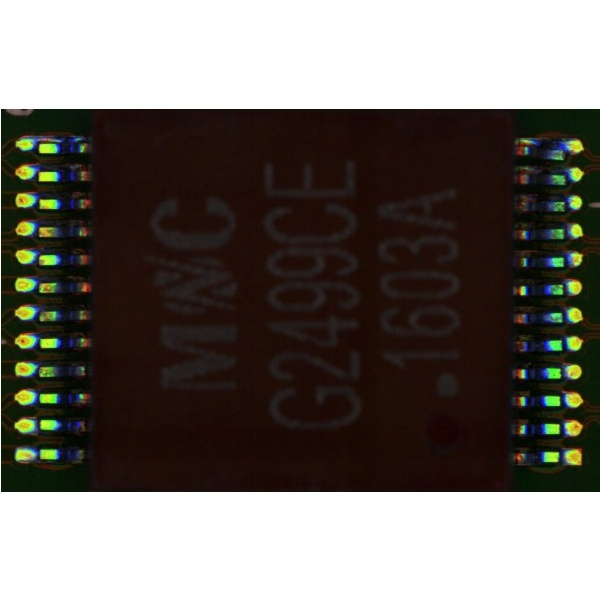Bad_qiaojiao: (38, 136, 77, 142)
